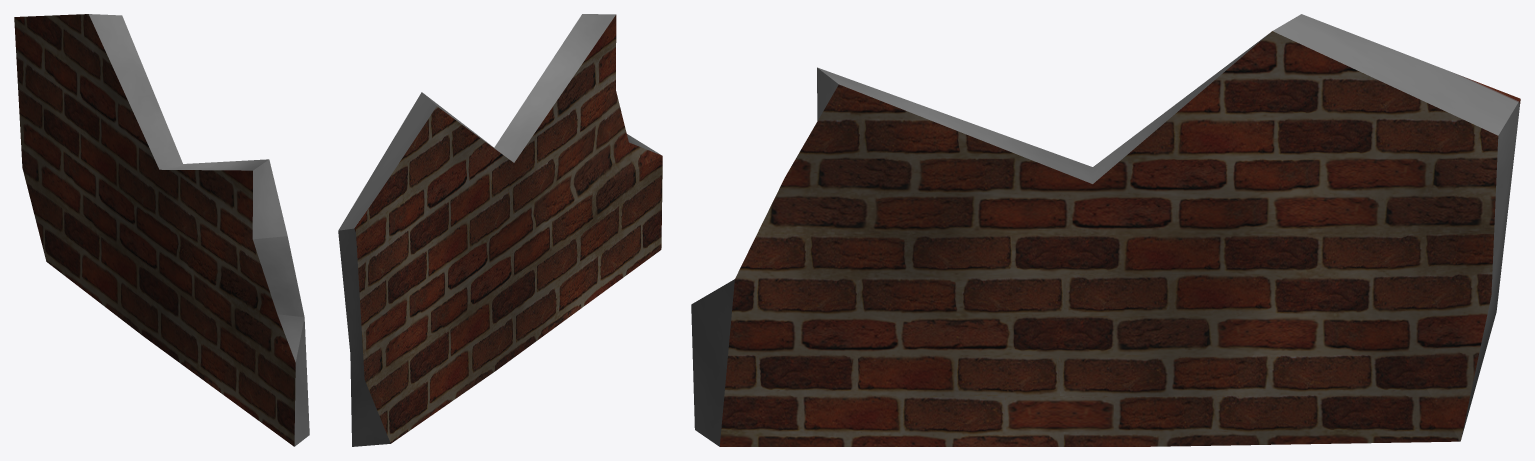
Rendered from wall_02.fbx.
The picture shows the model from 3 angles, left to right: view 1: azimuth 30°, elevation 25°; view 2: azimuth 150°, elevation 25°; view 3: azimuth 270°, elevation 25°; orthographic projection. The views are drawn at different scales.
Parts seen in each view (by area): view 1: wall_02; view 2: wall_02; view 3: wall_02.
Part boxes in pixels (<box>): wall_02: <box>14,14,309,446</box>; wall_02: <box>338,14,662,446</box>; wall_02: <box>691,14,1520,446</box>.
Bounding box in the file's own units: 17.74 × 202 × 364.
